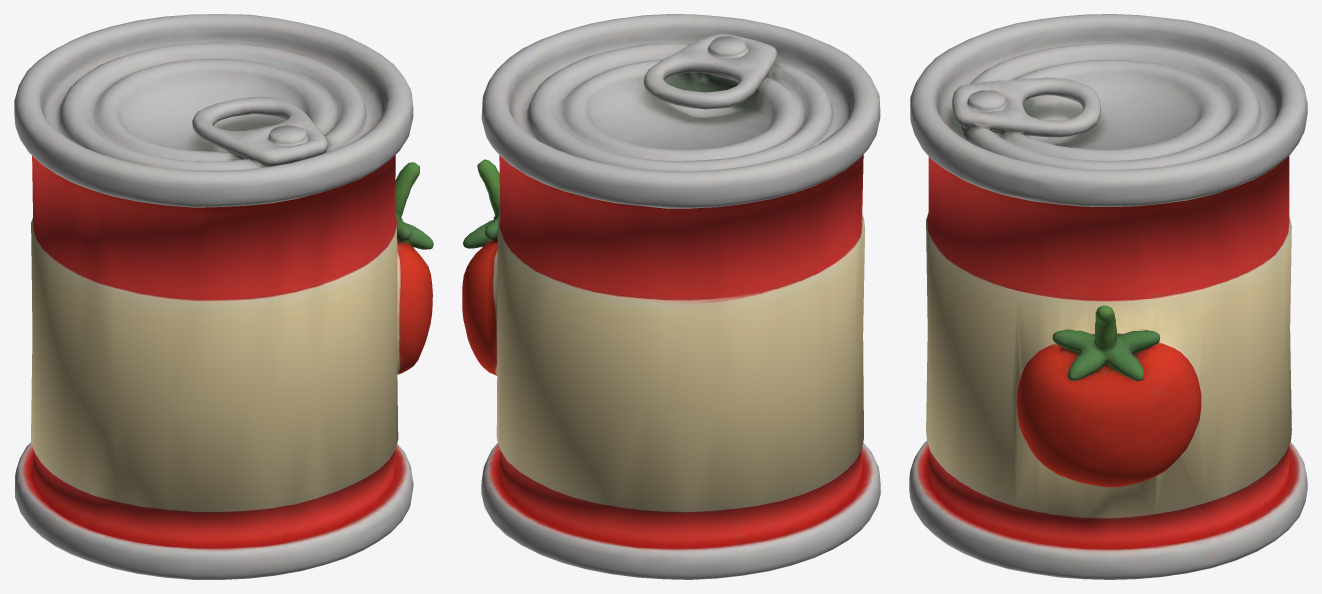
The model's file is can.glb.
The picture shows the model from 3 angles, left to right: view 1: azimuth 30°, elevation 25°; view 2: azimuth 150°, elevation 25°; view 3: azimuth 270°, elevation 25°; orthographic projection.
Parts seen in each view (by area): view 1: tripo_node_8526ec35-a35b-4c02-b507-1da4a065efc9; view 2: tripo_node_8526ec35-a35b-4c02-b507-1da4a065efc9; view 3: tripo_node_8526ec35-a35b-4c02-b507-1da4a065efc9.
Part boxes in pixels (x1,y1,x2,y2): tripo_node_8526ec35-a35b-4c02-b507-1da4a065efc9: [14, 14, 433, 579]; tripo_node_8526ec35-a35b-4c02-b507-1da4a065efc9: [462, 14, 880, 579]; tripo_node_8526ec35-a35b-4c02-b507-1da4a065efc9: [909, 14, 1307, 579].
Bounding box in the file's own units: 0.9669 × 0.998 × 0.8847.
Materials: 1 (1 with a texture image).
